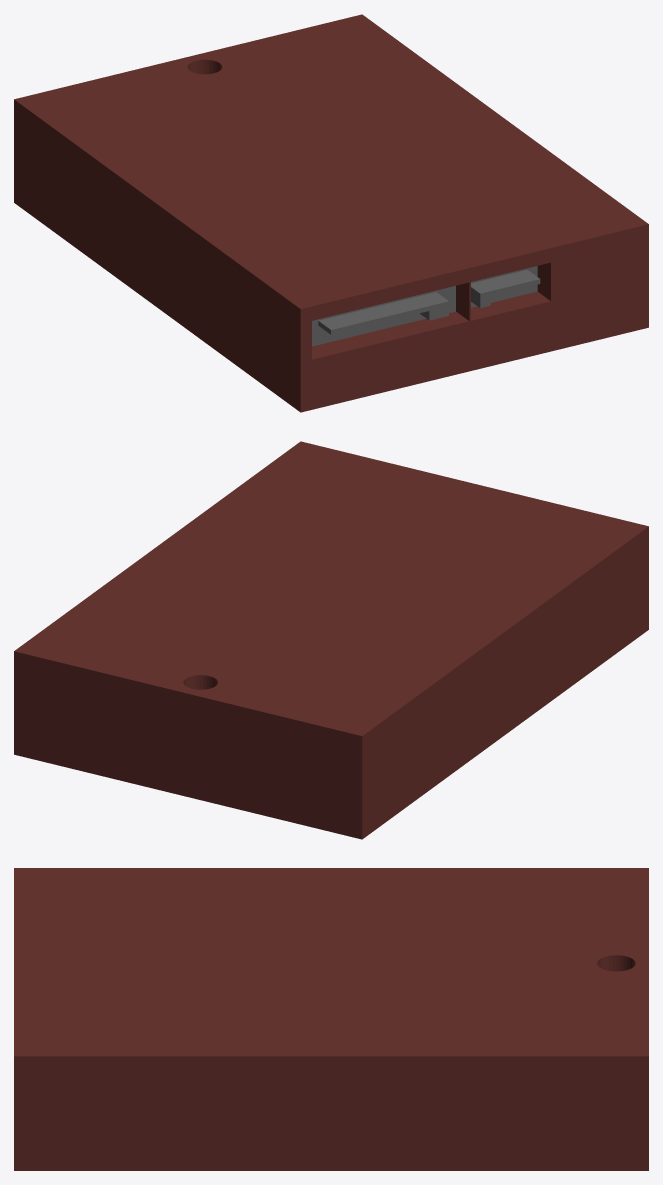
File: HDD component.glb
3 renders of one model, top to bottom at view 1: azimuth 30°, elevation 25°; view 2: azimuth 150°, elevation 25°; view 3: azimuth 270°, elevation 25°, orthographic. The views are drawn at different scales.
Visible parts, largest first — view 1: HDD component; view 2: HDD component; view 3: HDD component.
Boxes of the visible parts, x1=… form: HDD component: x1=14, y1=14, x2=648, y2=412; HDD component: x1=14, y1=441, x2=648, y2=839; HDD component: x1=14, y1=868, x2=648, y2=1170.
Size of the model in its own units: 1.88 by 0.5346 by 2.69.
